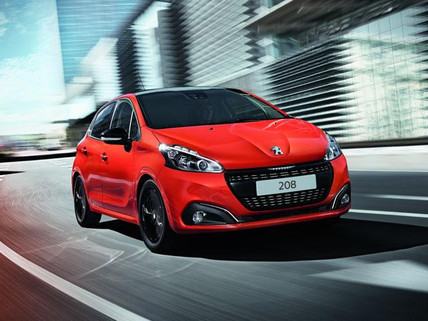Carro: (68, 84, 355, 251)
